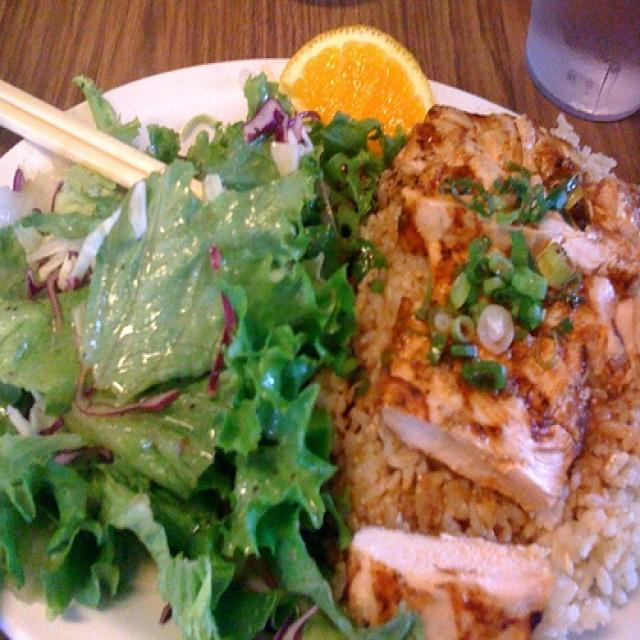鸡肉料理 含炸鸡: (9, 72, 603, 618)
